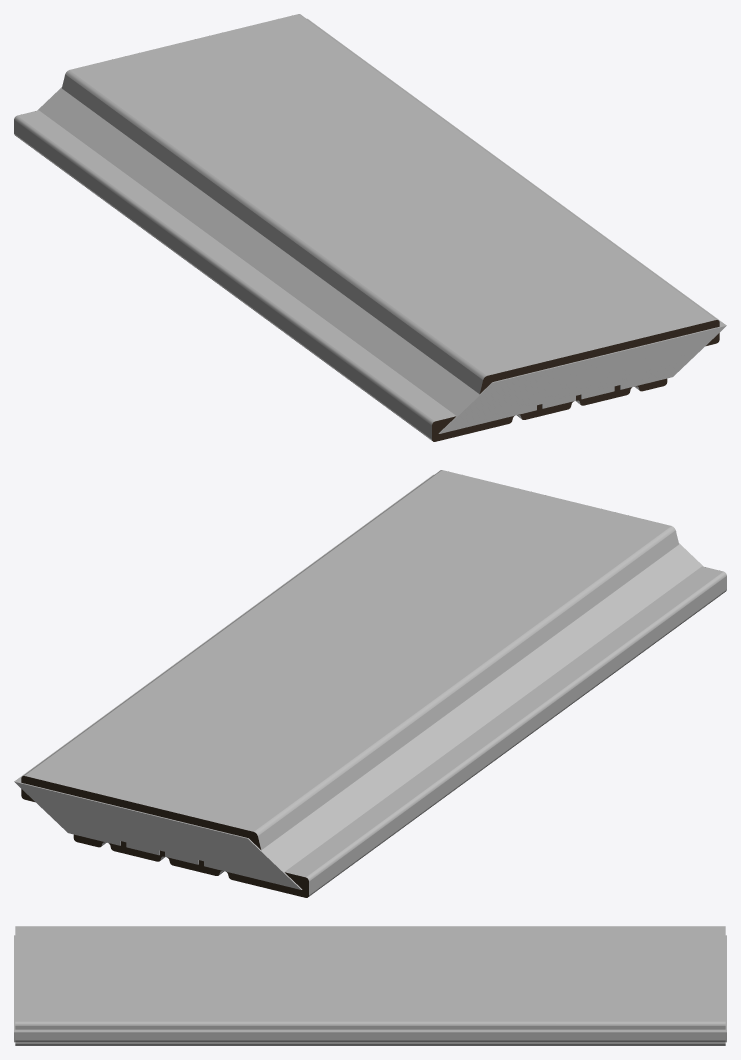
File: larch-facade.glb
3 views of the same model, one above another, from view 1: azimuth 30°, elevation 25°; view 2: azimuth 150°, elevation 25°; view 3: azimuth 270°, elevation 25° (orthographic). The views are drawn at different scales.
Parts seen in each view (by area): view 1: Pusė_Špunto_Maumedis, Rombas, Pusė_Špunto_45_Maumedis; view 2: Pusė_Špunto_Maumedis, Rombas, Pusė_Špunto_45_Maumedis; view 3: Pusė_Špunto_Maumedis, Rombas, Pusė_Špunto_45_Maumedis.
Part boxes in pixels (x1,y1,x2,y2): Pusė_Špunto_Maumedis: [14, 14, 719, 441]; Rombas: [37, 18, 726, 433]; Pusė_Špunto_45_Maumedis: [299, 14, 717, 391]; Pusė_Špunto_Maumedis: [21, 470, 726, 897]; Rombas: [14, 474, 703, 889]; Pusė_Špunto_45_Maumedis: [23, 470, 441, 833]; Pusė_Špunto_Maumedis: [15, 926, 725, 1045]; Rombas: [14, 935, 726, 1042]; Pusė_Špunto_45_Maumedis: [15, 1021, 725, 1022].
Bounding box in the file's own units: 0.0675 × 0.0117 × 0.1666.
